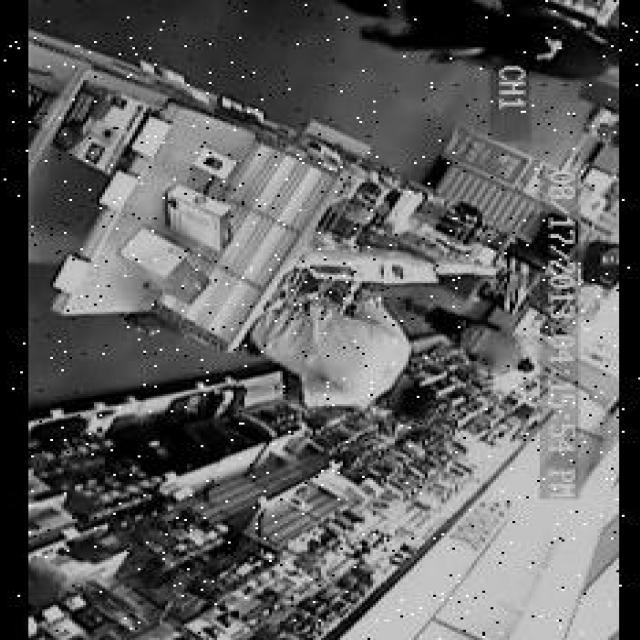Shoplifting: (165, 286, 534, 468)
